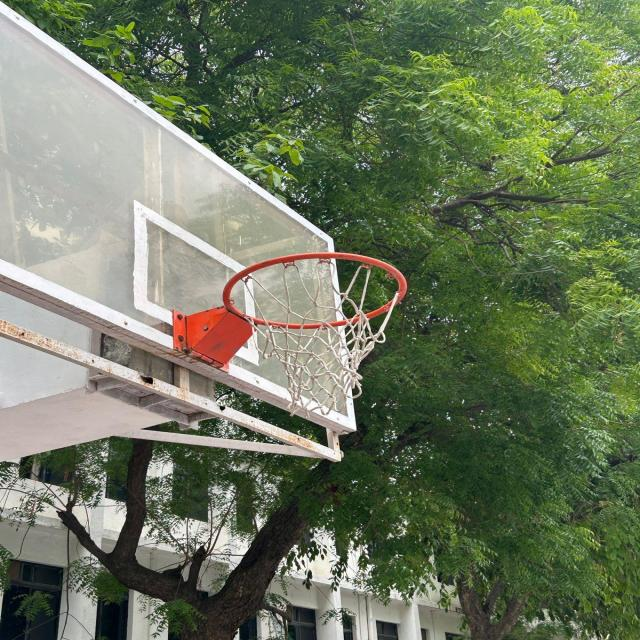hoop: (160, 247, 438, 430)
